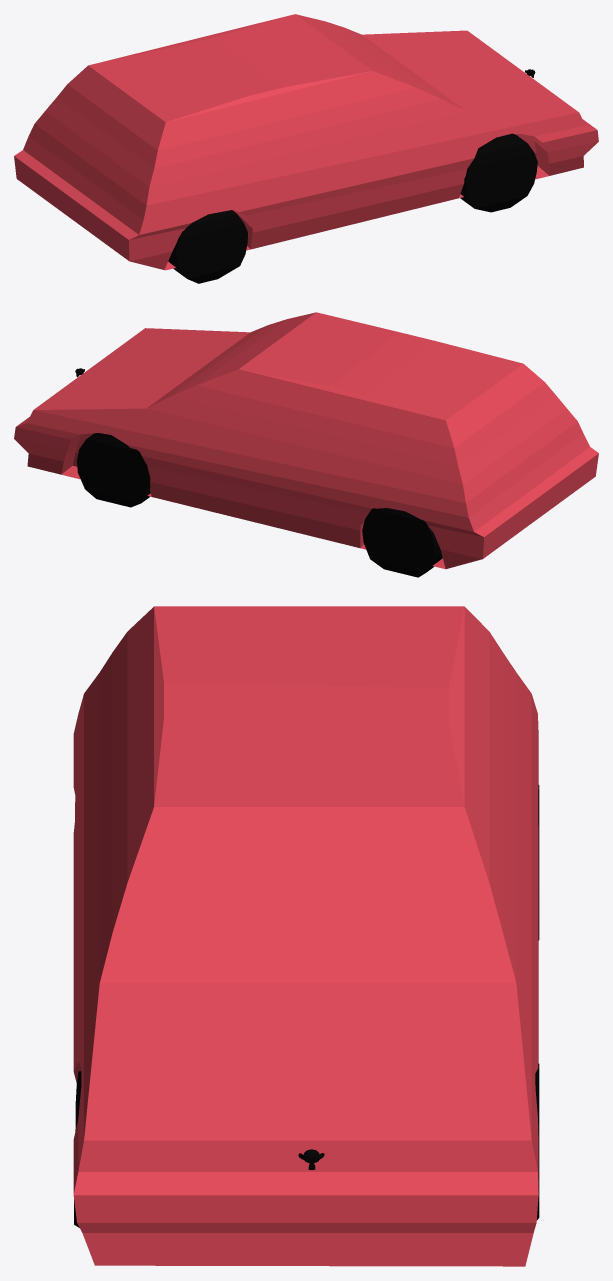
File: SpaceCar.fbx
3 renders of one model, top to bottom at view 1: azimuth 30°, elevation 25°; view 2: azimuth 150°, elevation 25°; view 3: azimuth 270°, elevation 25°, orthographic. The views are drawn at different scales.
Parts seen in each view (by area): view 1: Body, wheelsRight; view 2: Body, wheelsLeft; view 3: Body.
Part boxes in pixels (x1=…): Body: x1=14, y1=14, x2=598, y2=270; wheelsRight: x1=168, y1=133, x2=537, y2=283; Body: x1=14, y1=312, x2=598, y2=569; wheelsLeft: x1=77, y1=433, x2=442, y2=577; Body: x1=73, y1=606, x2=538, y2=1266.
Bounding box in the file's own units: 453 × 144 × 194.
